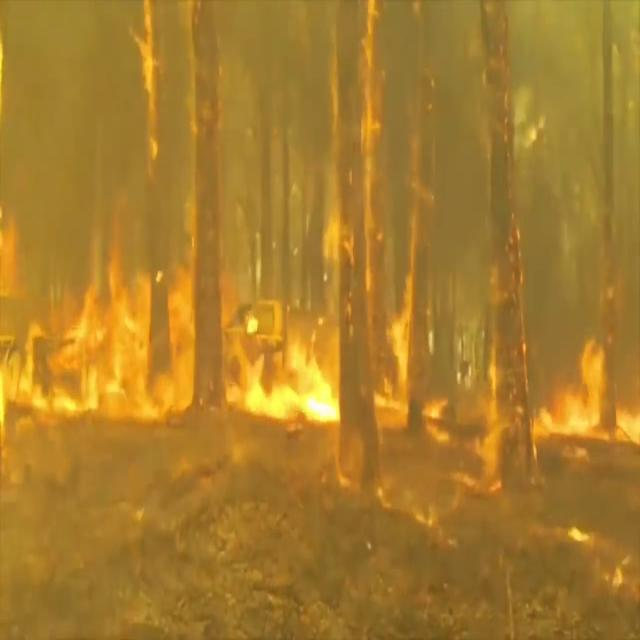Fire: (384, 187, 499, 500), (0, 244, 191, 421), (534, 322, 640, 451), (236, 310, 340, 430)
